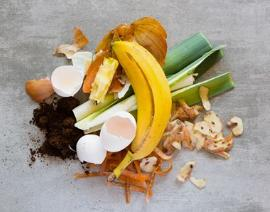organic: (77, 36, 232, 143), (108, 40, 171, 176), (96, 17, 168, 68), (53, 27, 89, 58), (51, 65, 83, 98), (83, 51, 108, 93), (76, 134, 107, 164), (72, 96, 107, 121), (203, 130, 233, 158), (25, 78, 53, 104), (97, 30, 116, 54), (227, 116, 243, 136), (117, 78, 131, 100), (194, 120, 213, 136), (115, 22, 133, 38), (199, 85, 210, 111)
